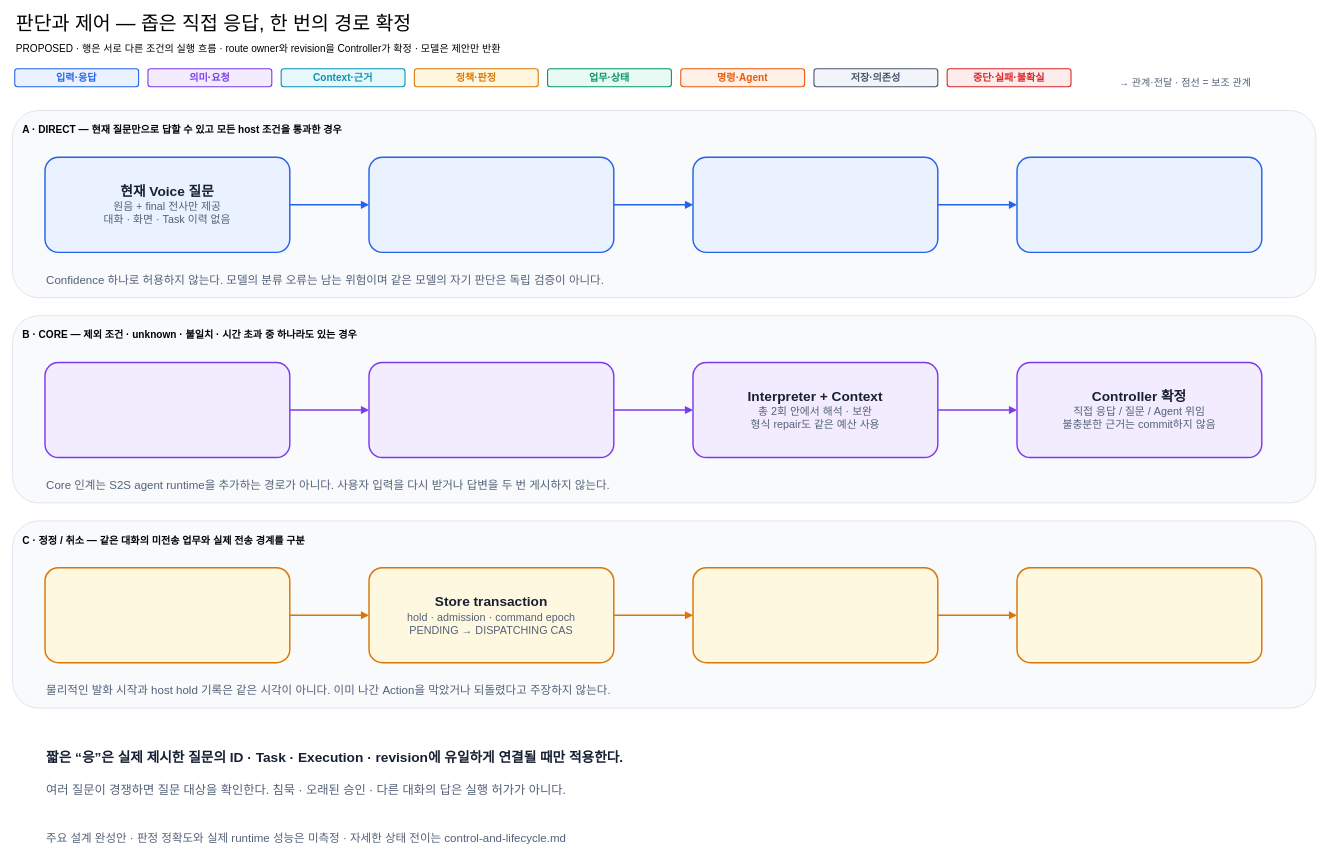
This 1328x858 diagram has some shape labels left out. Each missing label, with the centre of its shape:
"Controller 허용 검사 전사 · 질문 focus · revision 검사 DIRECT_VOICE owner를 한 번 확정" goes at (815,204).
"Omni VoiceProposal 일반 개념 / 안정된 일반 설명 dependency flags + text / audio" goes at (491,204).
"Response → Interaction 내구 publication + output epoch 승인 단위만 표시 · 재생" goes at (1139,204).
"같은 Request → CORE 새 Request로 복제하지 않음 이전 route / generation 차단" goes at (491,409).
"새 발화 시작 IM local stop · output epoch 증가 Controller에 InputStarted / hold" goes at (167,615).
"새 입력의 의미 반영 정정 대상만 supersede / cancel 무관한 Task는 계속 유지" goes at (1139,615).
"전송 전 / 전송 후 hold 선행: 미전송 유지 전송 선행: 상태 조회 · 제어" goes at (815,615).
"직접 경로 미허용 speculative audio 폐기 입력과 수집 근거는 유지" goes at (167,409).
